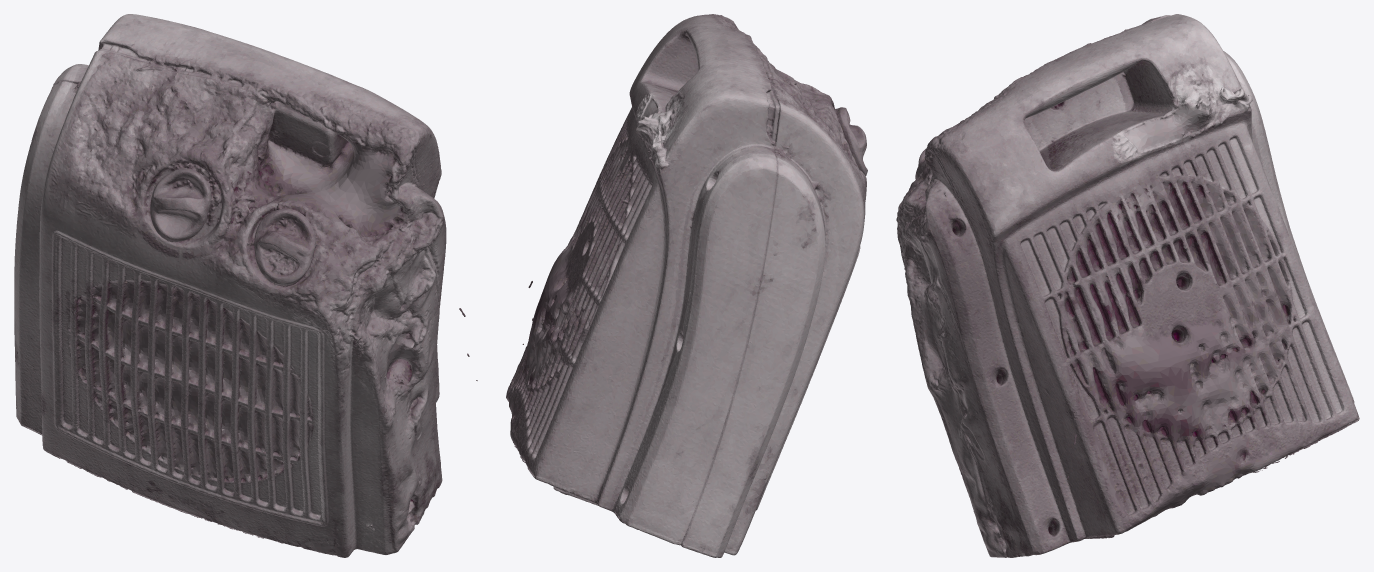
File: scene_mobile.glb
3 renders of one model, left to right at view 1: azimuth 30°, elevation 25°; view 2: azimuth 150°, elevation 25°; view 3: azimuth 270°, elevation 25°, orthographic. The views are drawn at different scales.
Bounding box in the file's own units: 223 × 268 × 241.
